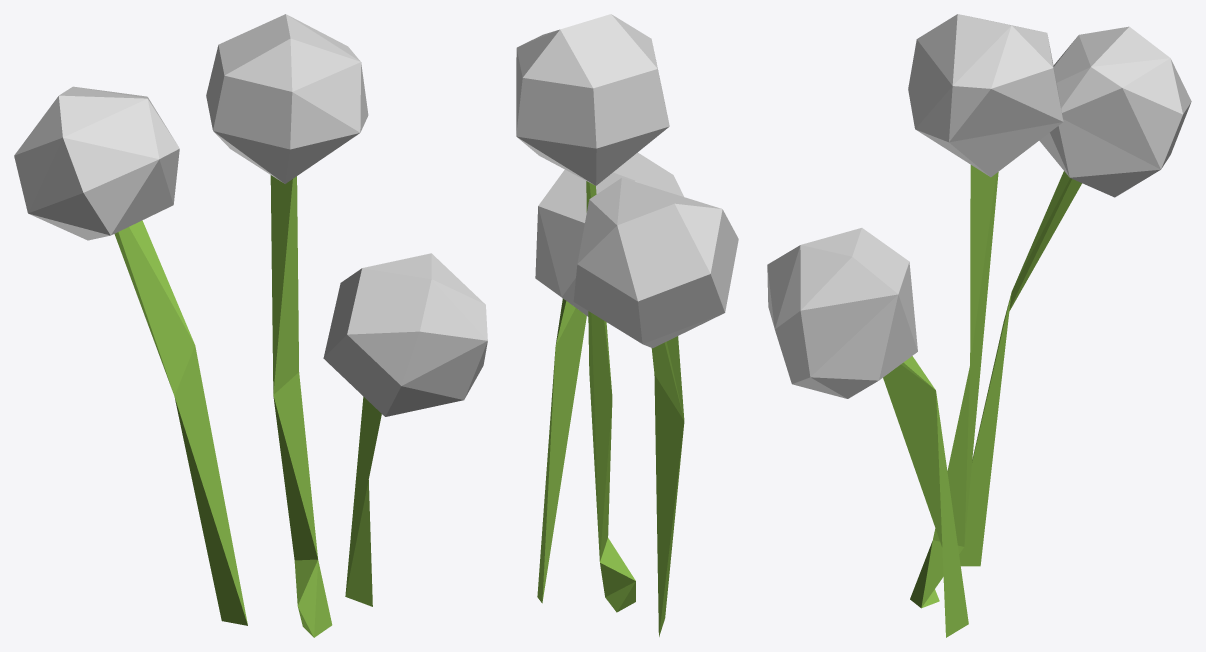
File: dandelions.glb
3 renders of one model, left to right at view 1: azimuth 30°, elevation 25°; view 2: azimuth 150°, elevation 25°; view 3: azimuth 270°, elevation 25°, orthographic. The views are drawn at different scales.
Parts seen in each view (by area): view 1: Node; view 2: Node; view 3: Node.
Boxes of the visible parts, x1,y1,x2,y2 form: Node: (14, 14, 487, 637); Node: (516, 14, 738, 636); Node: (767, 14, 1191, 637).
Size of the model in its own units: 0.1017 by 0.1852 by 0.1215.
